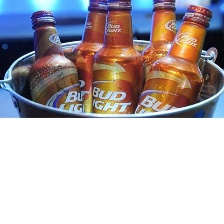bottle: (131, 2, 215, 117), (26, 4, 82, 117), (91, 0, 141, 117), (65, 0, 110, 120), (138, 0, 178, 97)
